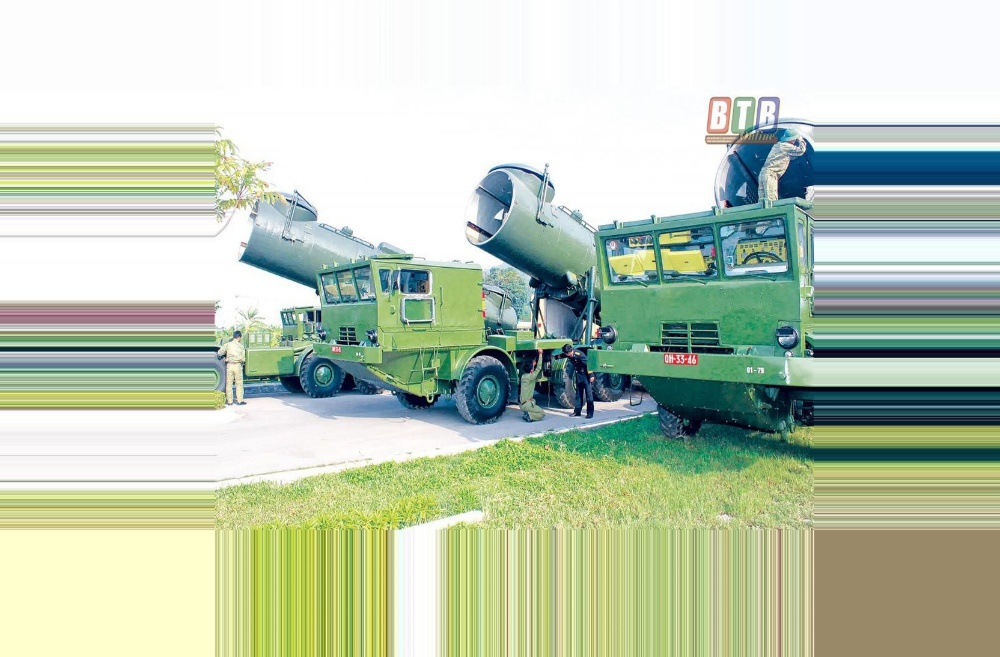plate: (661, 350, 701, 366), (327, 342, 344, 354)
